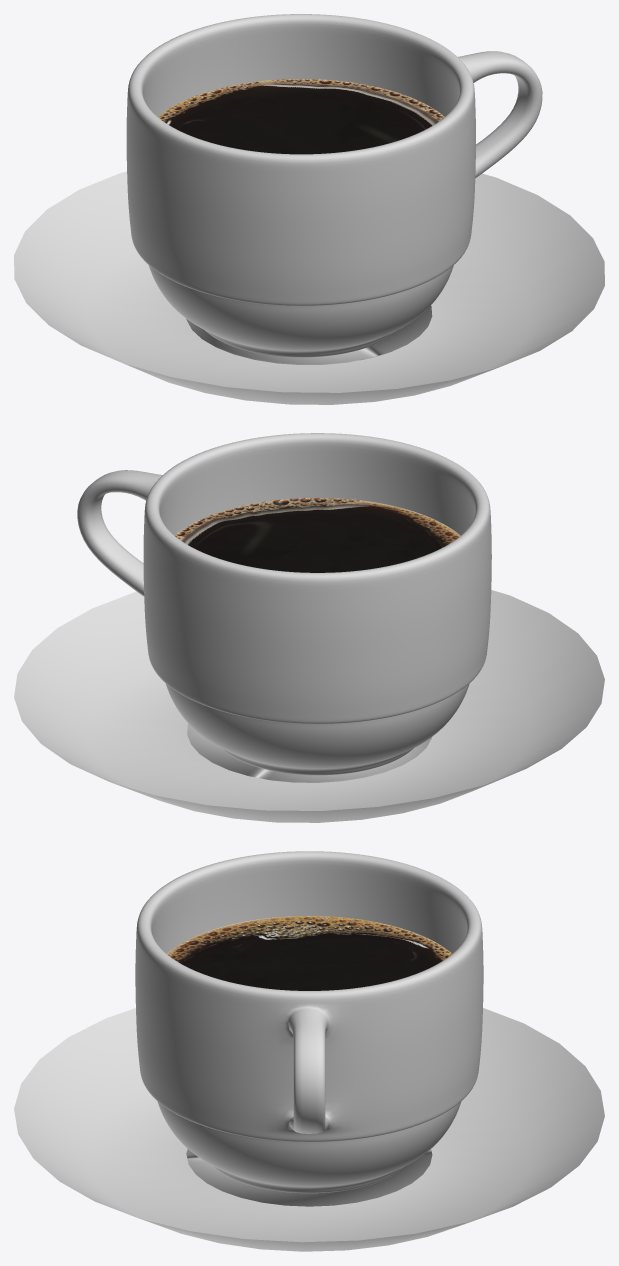
File: Coffe.glb
3 views of the same model, one above another, from view 1: azimuth 30°, elevation 25°; view 2: azimuth 150°, elevation 25°; view 3: azimuth 270°, elevation 25° (orthographic).
Parts seen in each view (by area): view 1: Cup, Círculo, Cafe; view 2: Cup, Círculo, Cafe; view 3: Cup, Círculo, Cafe.
Boxes of the visible parts, box(x1,y1,x2,y2) form: Cup: box(126, 14, 542, 357); Círculo: box(14, 171, 604, 404); Cafe: box(158, 79, 444, 154); Cup: box(77, 433, 491, 775); Círculo: box(14, 590, 604, 822); Cafe: box(174, 497, 460, 572); Cup: box(135, 851, 483, 1193); Círculo: box(14, 1008, 604, 1251); Cafe: box(166, 916, 452, 990).
Bounding box in the file's own units: 0.2464 × 0.107 × 0.2464.
2 materials, 1 textured.
